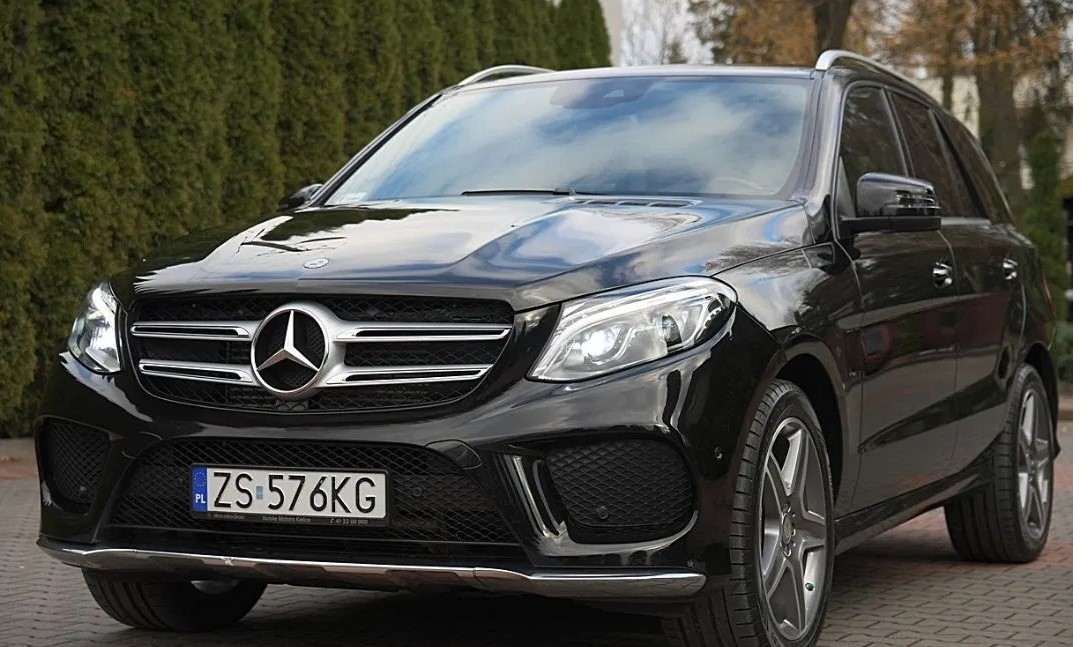number_plate: (175, 454, 397, 532)
